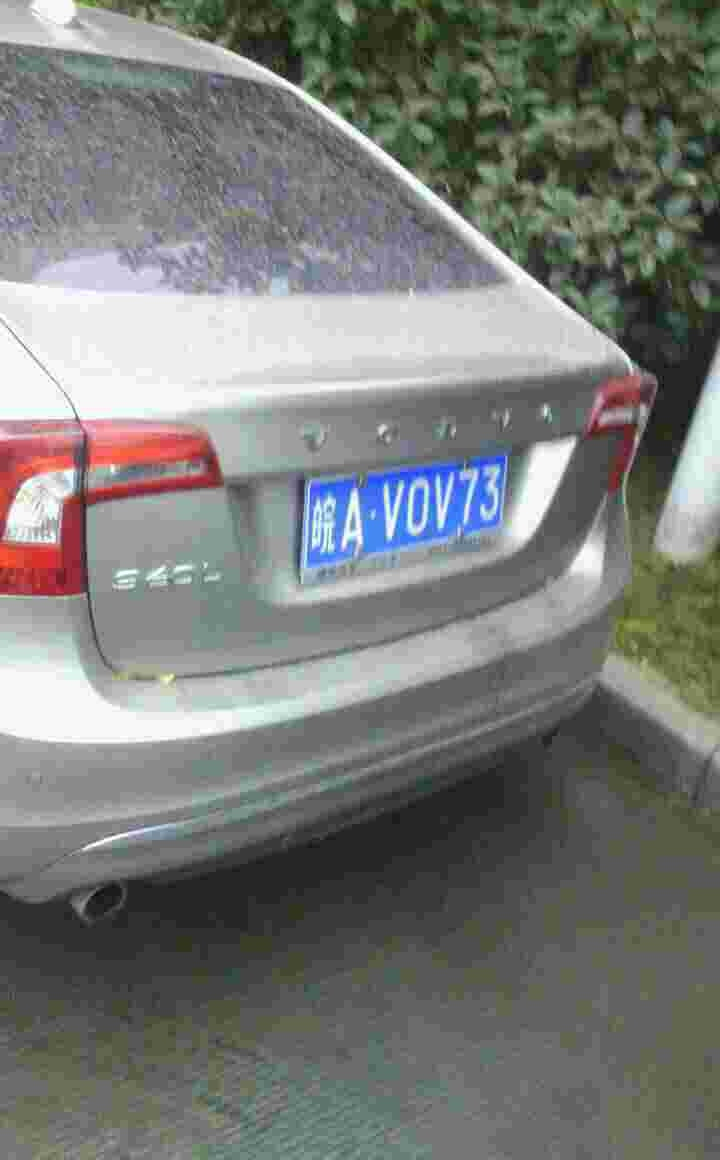license_plate: (304, 463, 501, 576)
